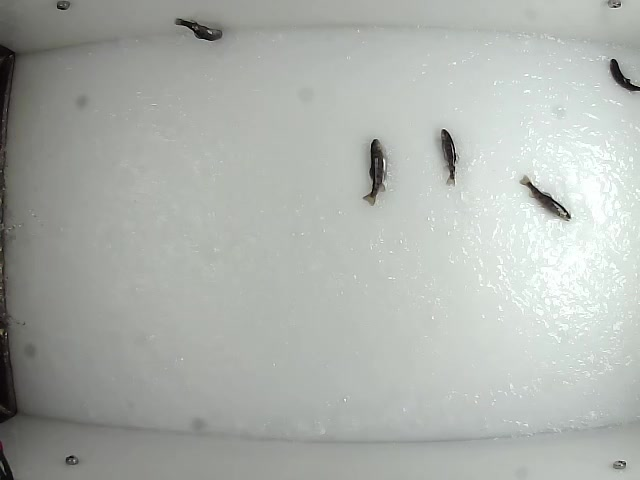fish: (516, 173, 573, 225), (361, 138, 387, 209), (439, 126, 462, 189), (171, 16, 224, 42), (610, 58, 640, 93)
